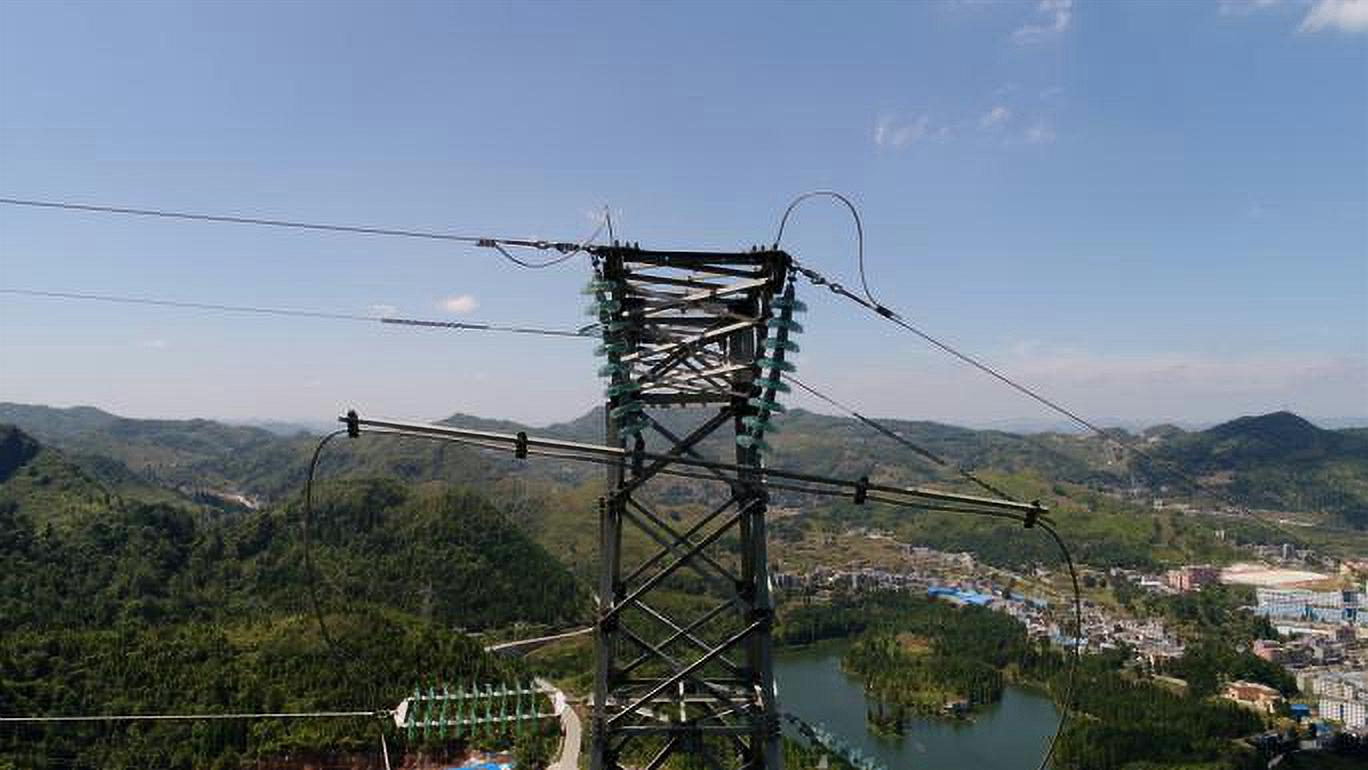insulator: (574, 274, 654, 439), (732, 294, 810, 461), (402, 675, 543, 746)
